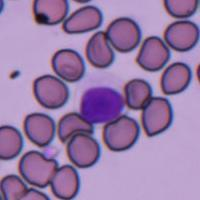L: (77, 76, 127, 125)
